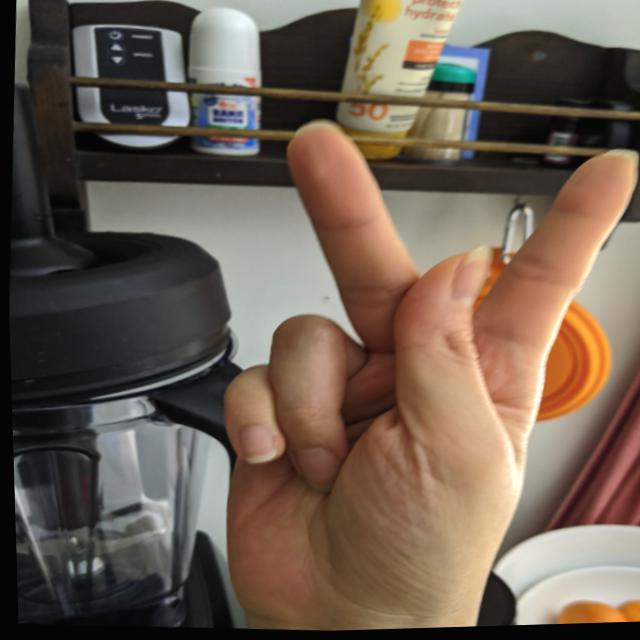K: (188, 102, 639, 635)
